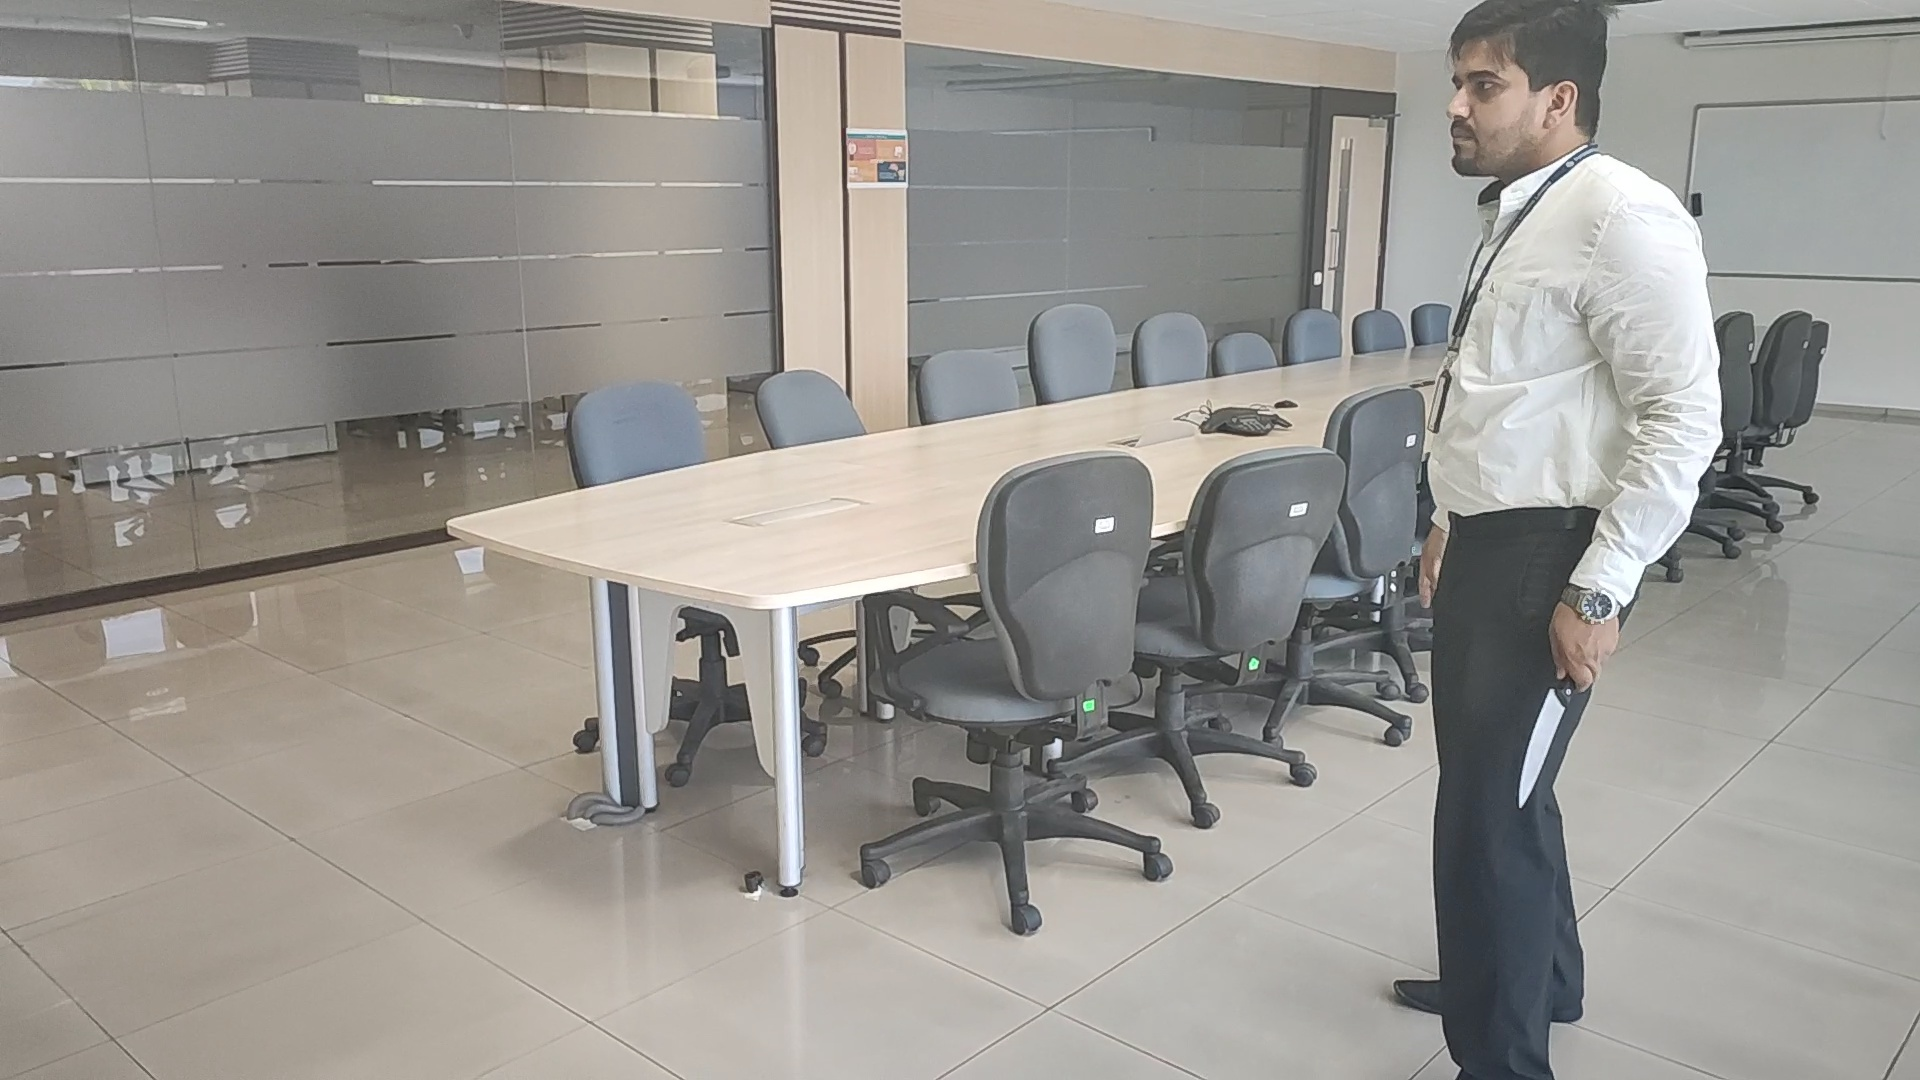knife: (1516, 694, 1565, 808)
